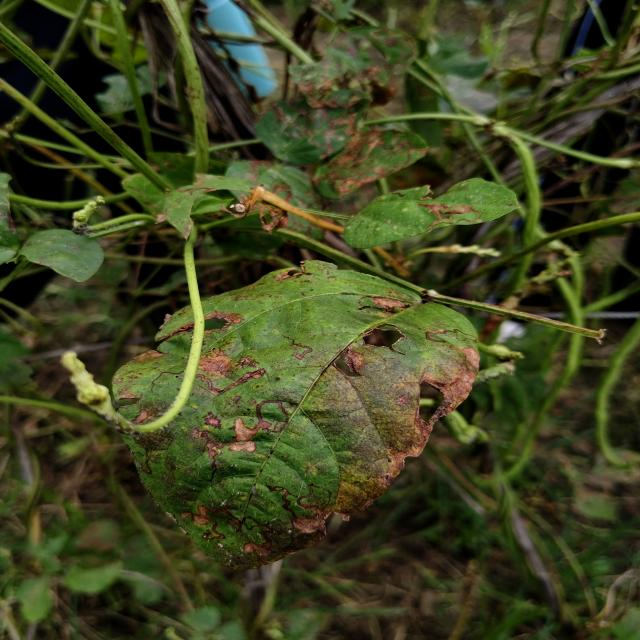leaf-moderate: (112, 260, 479, 569)
sitaw-aphid-low: (344, 178, 519, 249)
